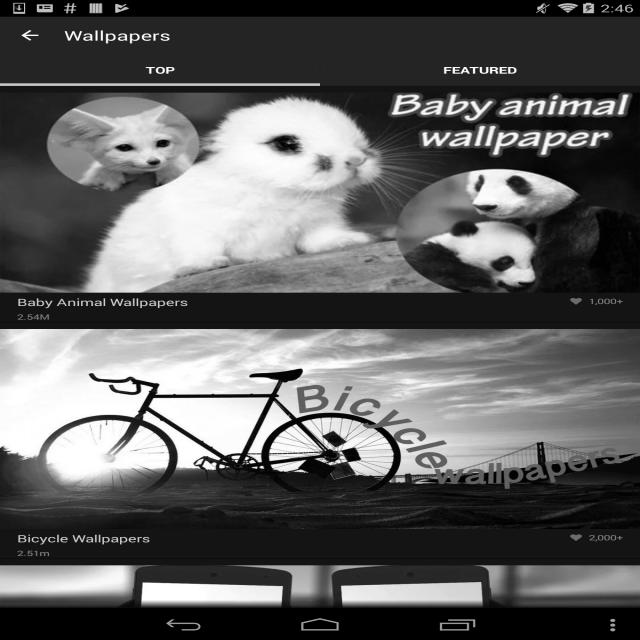ImageButton: (0, 17, 60, 54)
ImageView: (0, 92, 640, 292), (0, 329, 640, 529), (0, 565, 640, 640), (568, 296, 584, 307), (568, 532, 584, 543)
TextView: (0, 54, 320, 86), (320, 54, 640, 86), (17, 295, 189, 309), (64, 26, 171, 44), (17, 532, 151, 545), (589, 296, 623, 306), (589, 532, 623, 542), (17, 312, 50, 322), (17, 548, 50, 558)
